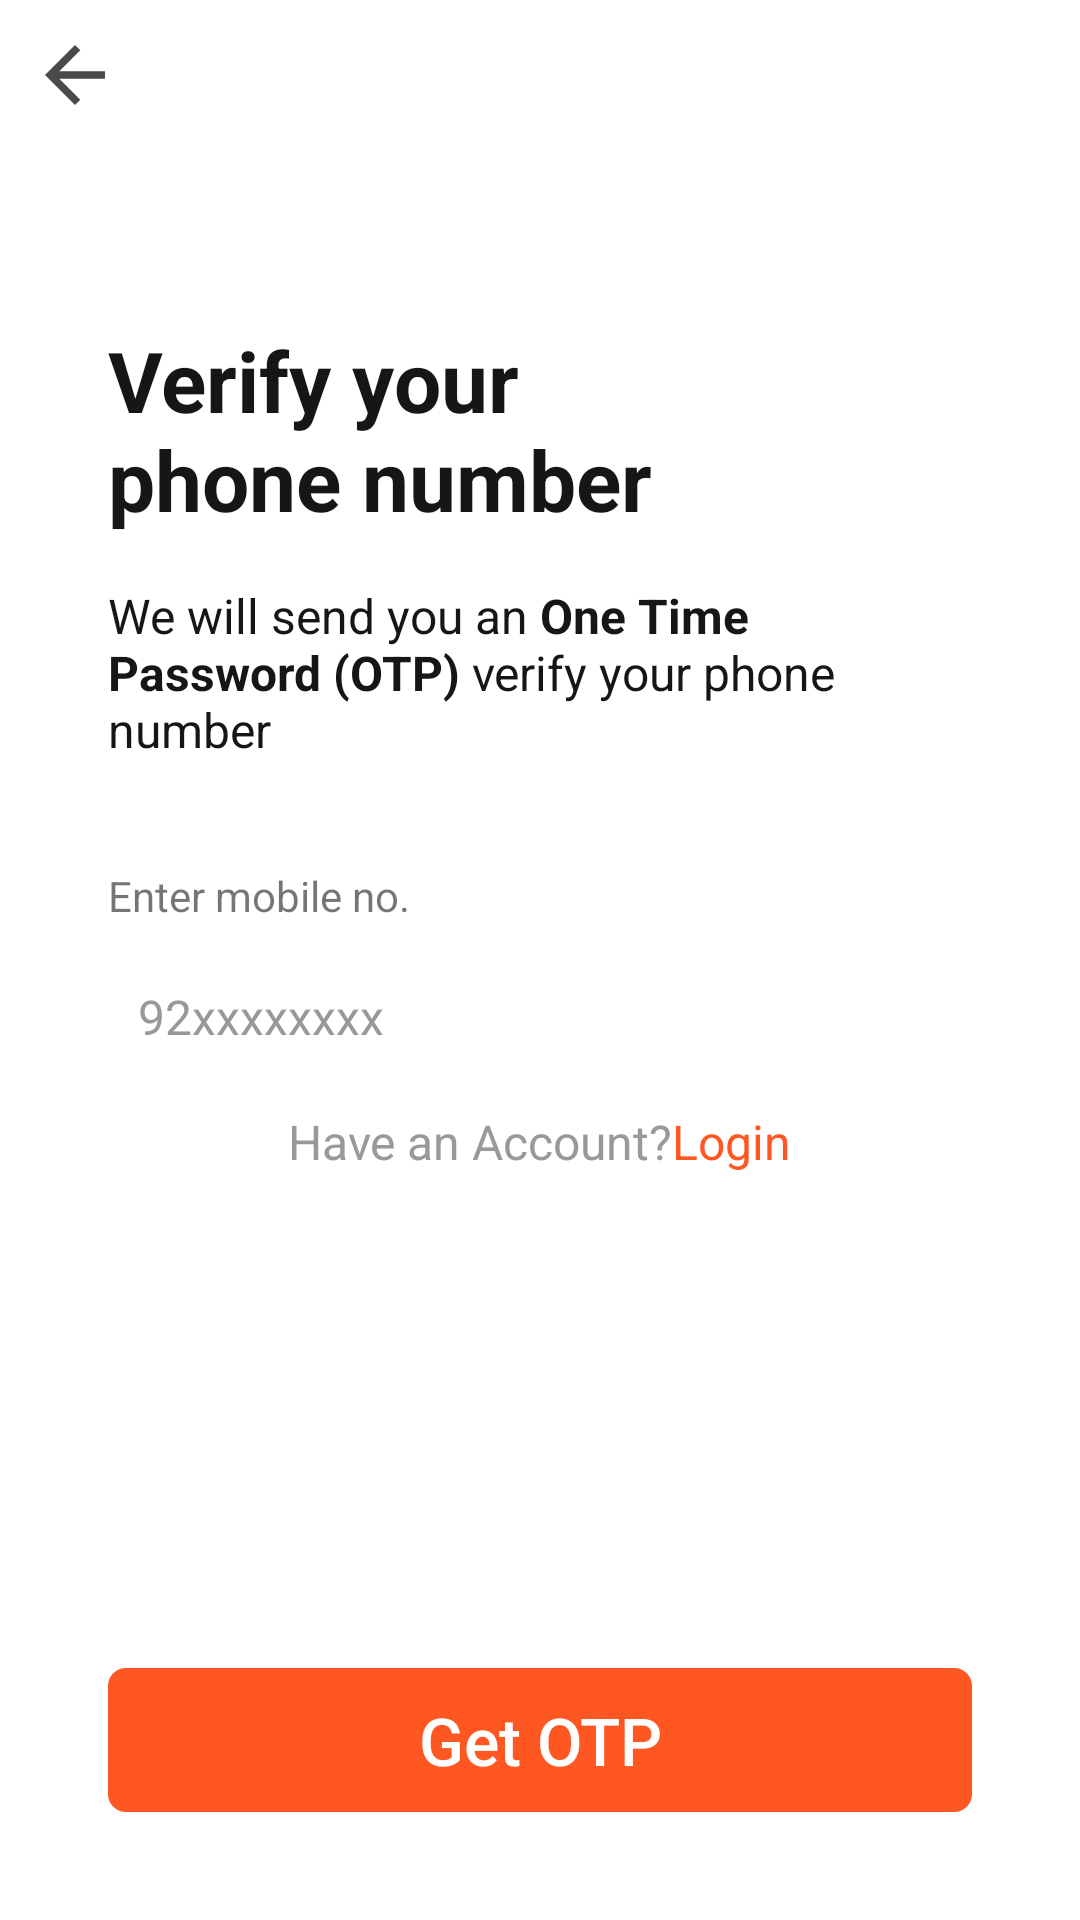

Where icons sit on this 1080 × 1920 app screen, as detection(x1, y1, x2, y2):
back arrow: detection(45, 45, 105, 105)
